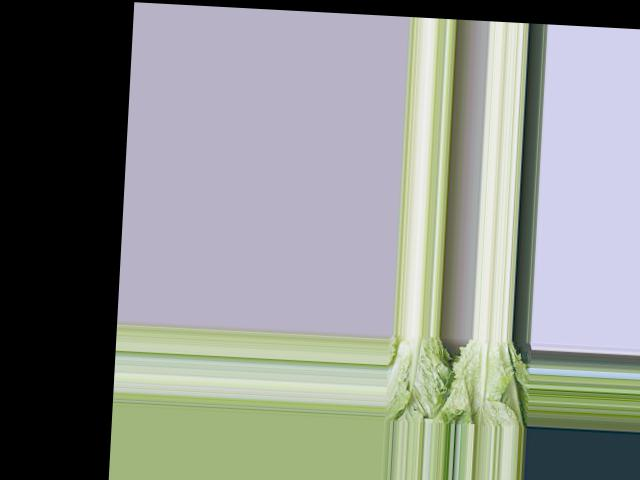lettuce: (388, 333, 449, 418)
